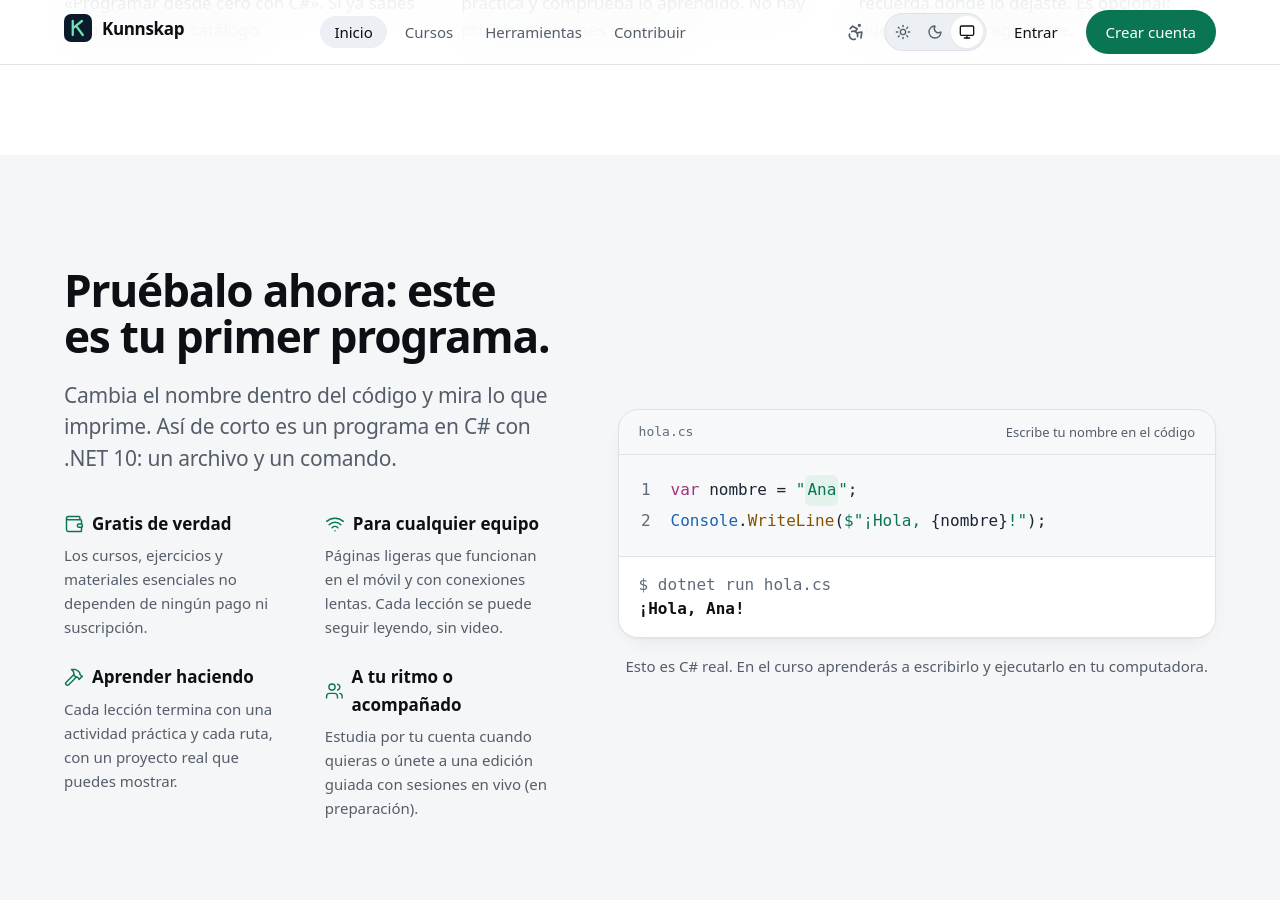
Test: editor de la portada › no permite caracteres que romperían la cadena de C#
This screenshot has width=1280, height=900.
(page scrolled)
Clear the field labelled "Escribe tu nombre en el código" at (822,491), box [806,475,838,506]
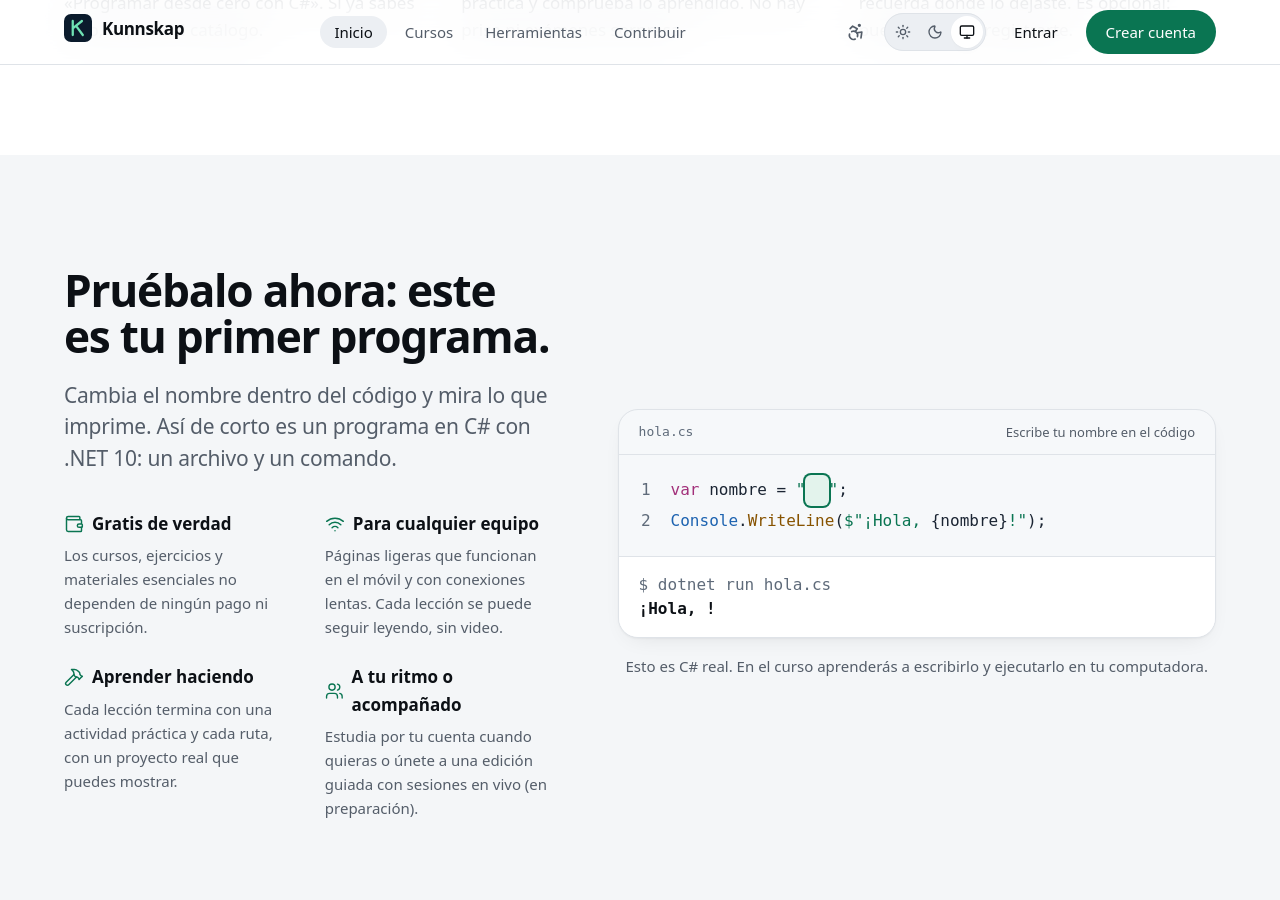
Type "A\"n\\a" into the field labelled "Escribe tu nombre en el código".
click(817, 491); type("A\"n\\a")  # box [806,475,829,506]
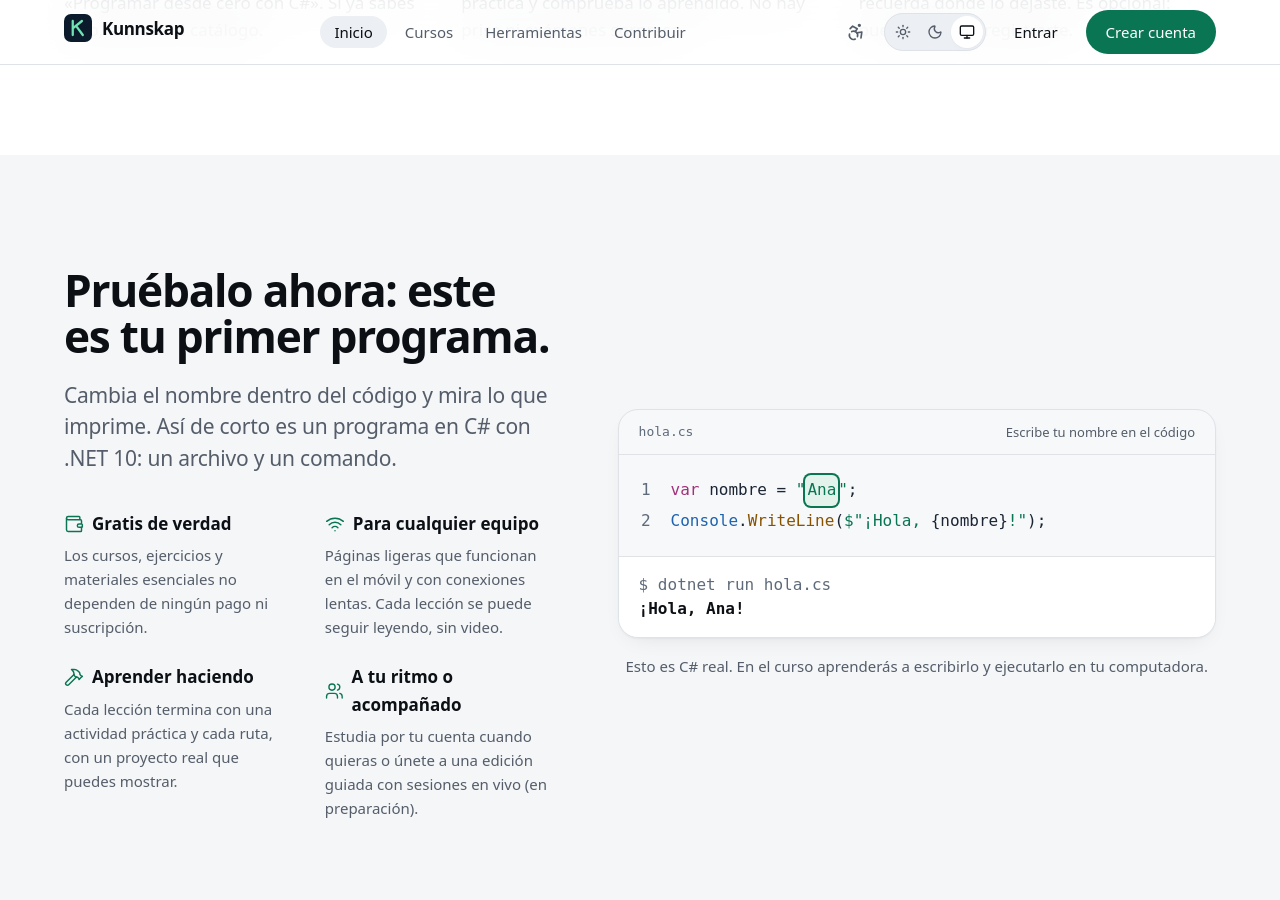
Expected: the field labelled "Escribe tu nombre en el código" holds "Ana", [806,475,838,506]
